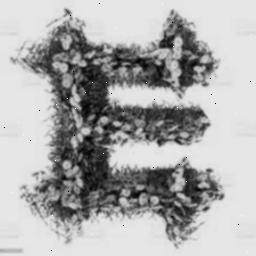e: (39, 40, 213, 218)
